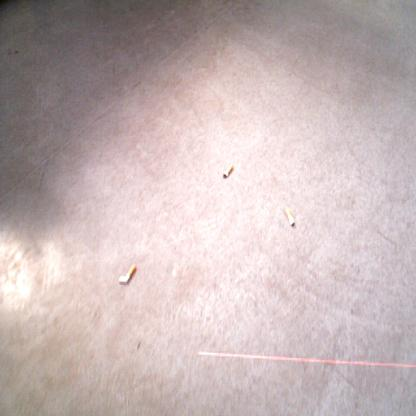dirty: (118, 263, 136, 284), (284, 206, 295, 227), (222, 165, 234, 179)
mark: (376, 229, 396, 245), (39, 159, 49, 183), (130, 79, 140, 90), (135, 339, 142, 352), (112, 62, 116, 74), (13, 48, 18, 56), (130, 5, 135, 12), (56, 82, 61, 88), (7, 50, 11, 57)
